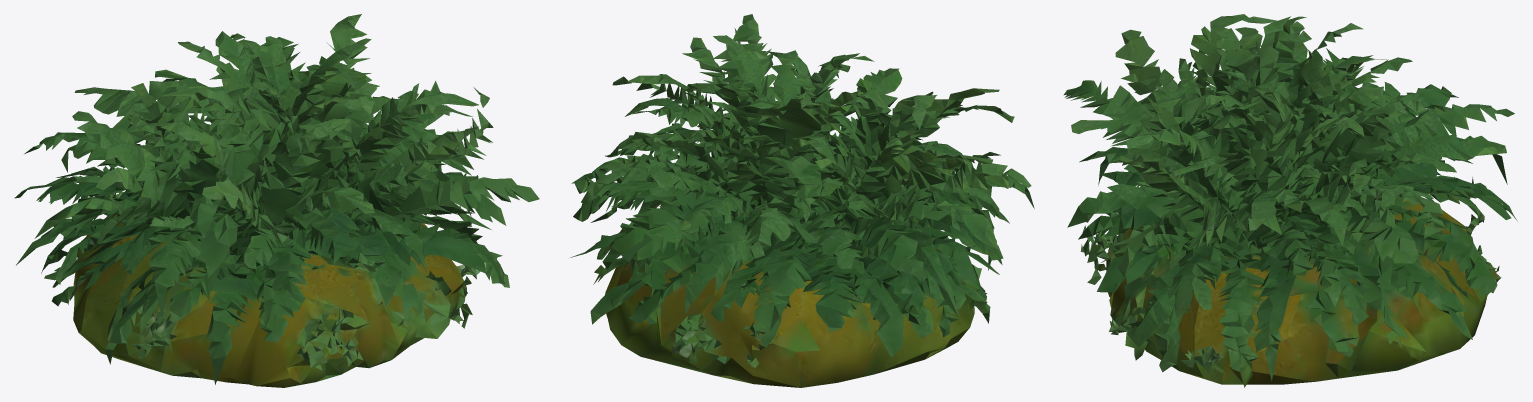
Rendered from ferns_s.glb.
3 renders of one model, left to right at view 1: azimuth 30°, elevation 25°; view 2: azimuth 150°, elevation 25°; view 3: azimuth 270°, elevation 25°, orthographic. The views are drawn at different scales.
Bounding box in the file's own units: 1.87 × 1.03 × 1.65.
1 material, 1 textured.
